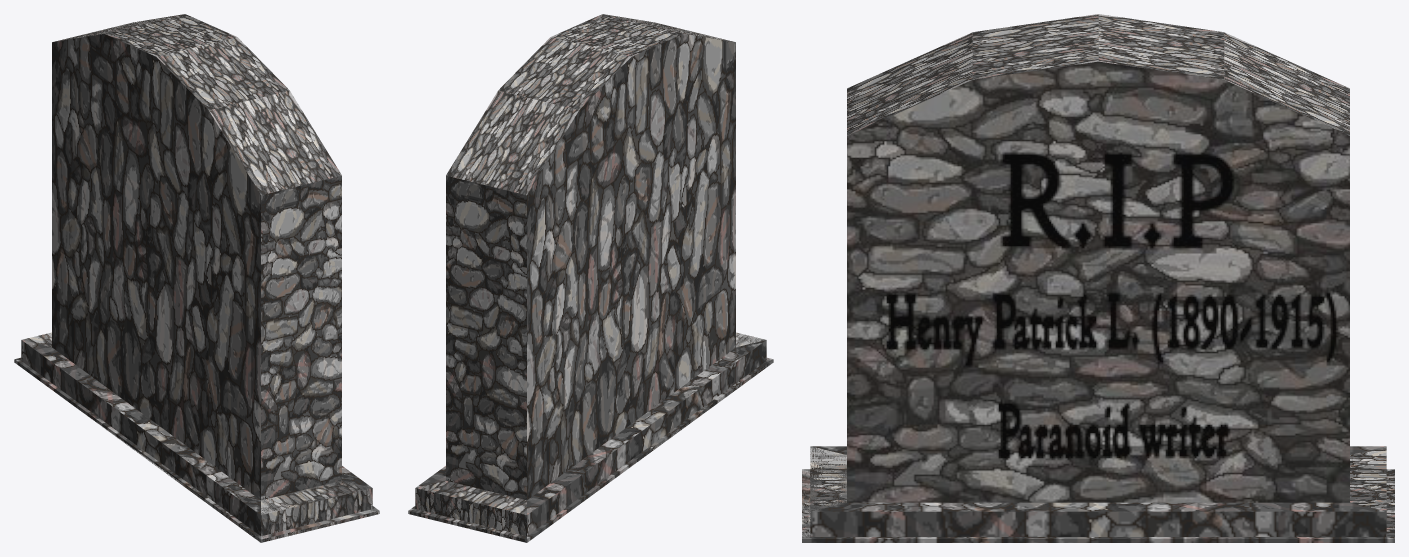
The model's file is GravestoneMC.fbx.
3 renders of one model, left to right at view 1: azimuth 30°, elevation 25°; view 2: azimuth 150°, elevation 25°; view 3: azimuth 270°, elevation 25°, orthographic. The views are drawn at different scales.
Visible parts, largest first — view 1: Gravestone; view 2: Gravestone; view 3: Gravestone.
Part boxes in pixels (bbox=[...]): Gravestone: bbox=[14, 14, 379, 542]; Gravestone: bbox=[408, 14, 773, 542]; Gravestone: bbox=[802, 14, 1394, 542].
Bounding box in the file's own units: 30.48 × 96.1 × 110.
Materials: 2 (2 with a texture image).
